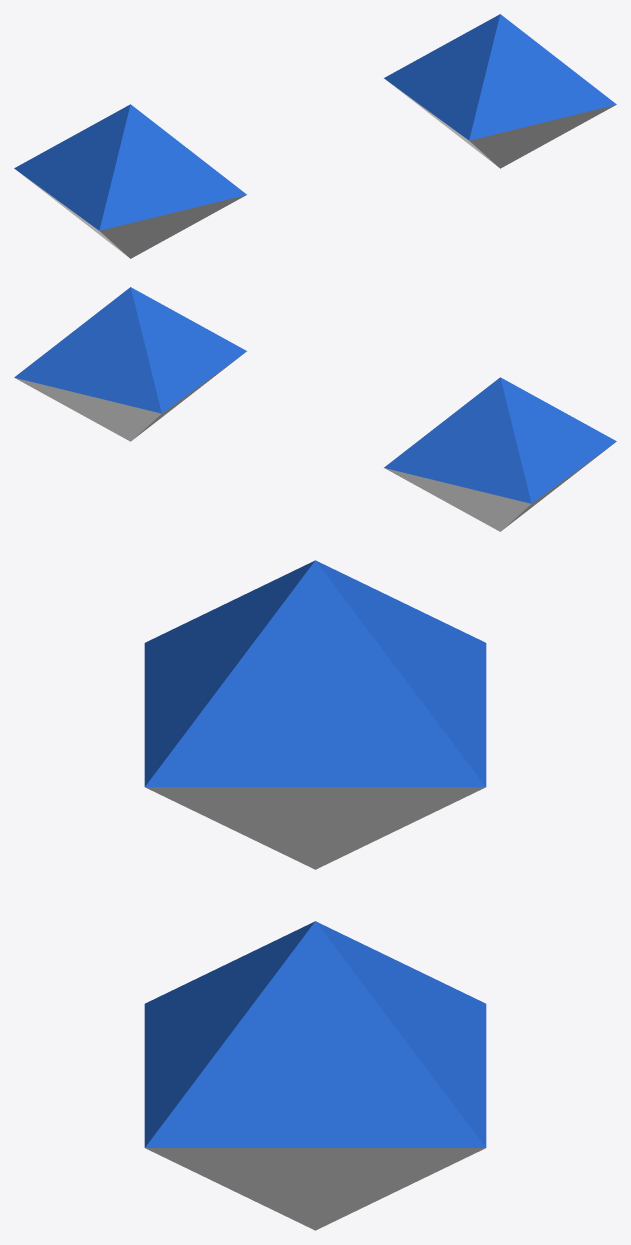
File: properties.glb
3 renders of one model, top to bottom at view 1: azimuth 30°, elevation 25°; view 2: azimuth 150°, elevation 25°; view 3: azimuth 270°, elevation 25°, orthographic. The views are drawn at different scales.
Visible parts, largest first — view 1: Cube.009, Parent; view 2: Cube.009, Parent; view 3: Cube.009, Parent.
Boxes of the visible parts, <box> form: Cube.009: <box>384,14,616,168</box>; Parent: <box>14,104,246,258</box>; Cube.009: <box>14,287,246,441</box>; Parent: <box>384,377,616,531</box>; Cube.009: <box>144,921,486,1230</box>; Parent: <box>144,560,486,869</box>.
Size of the model in its own units: 7 by 2 by 2.
